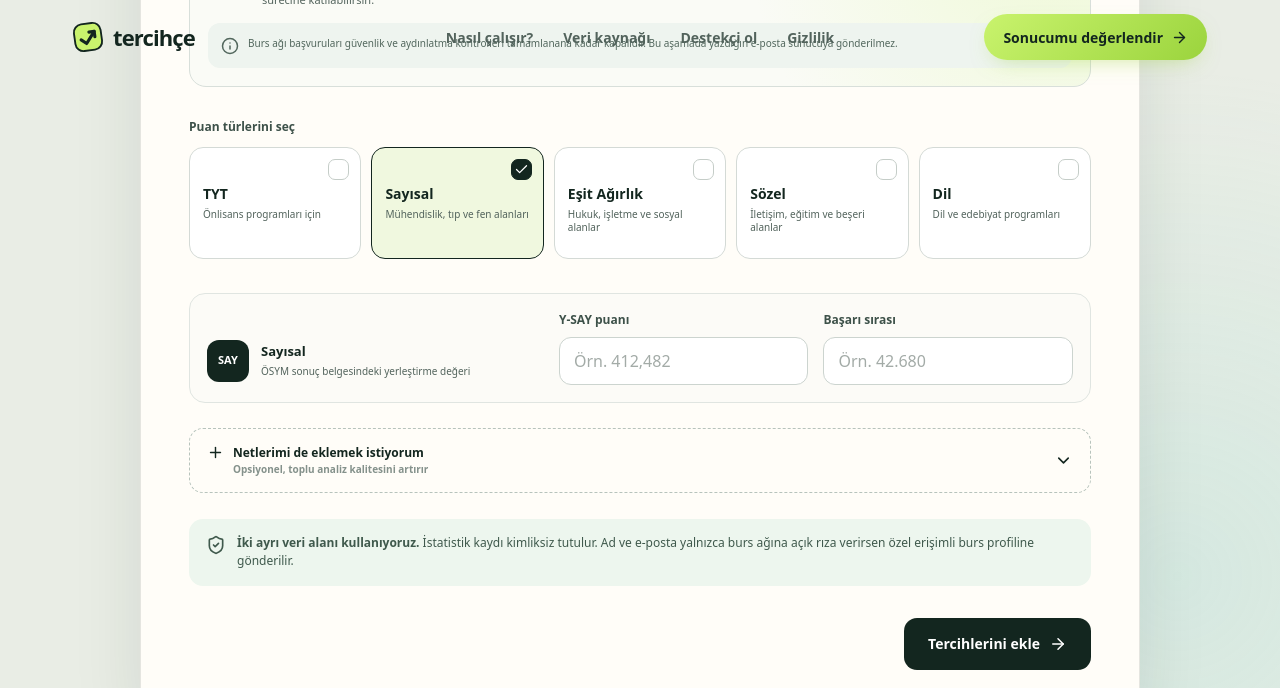
Tercihçe analiz akışı › kayıt onayı istemeden kimliksiz kayıt bilgilendirmesi gösterir
This screenshot has width=1280, height=688.
(page scrolled)
In the field named "SAY yerleştirme puanı": point(684, 360) [559,336,808,384], type "412,482"
(page scrolled)
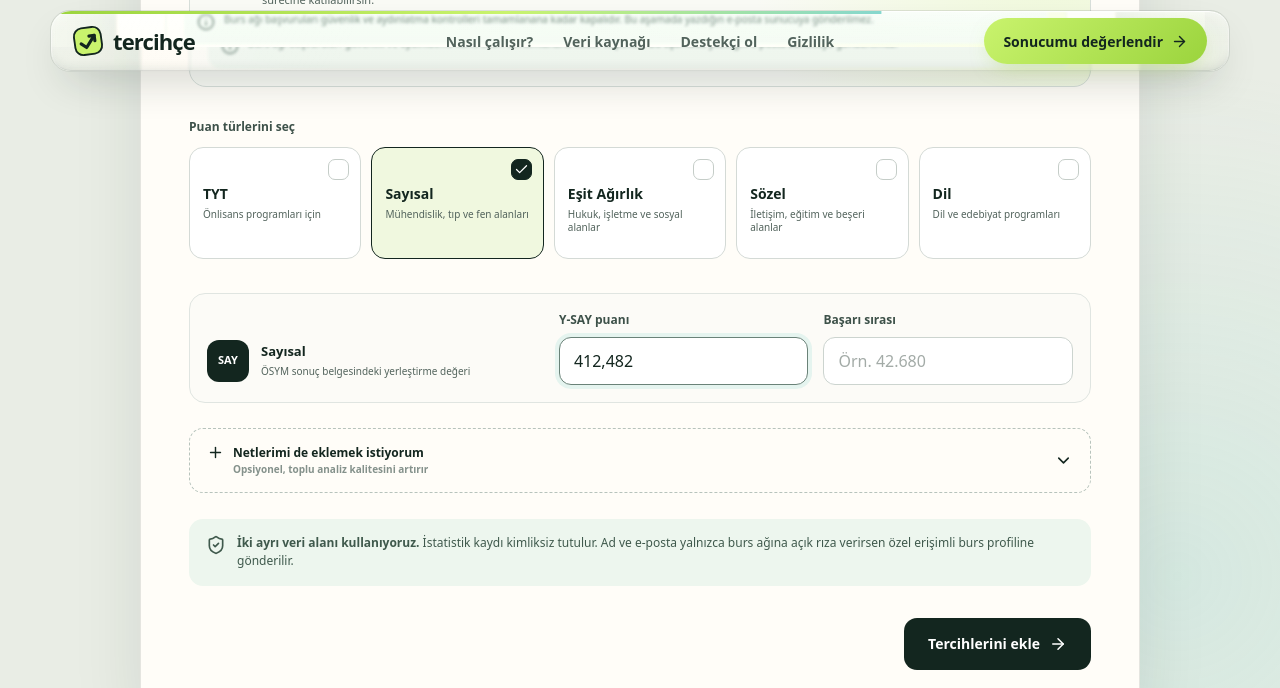
In the field named "SAY yerleştirme başarı sırası": point(948, 360) [823,336,1073,384], type "42680"
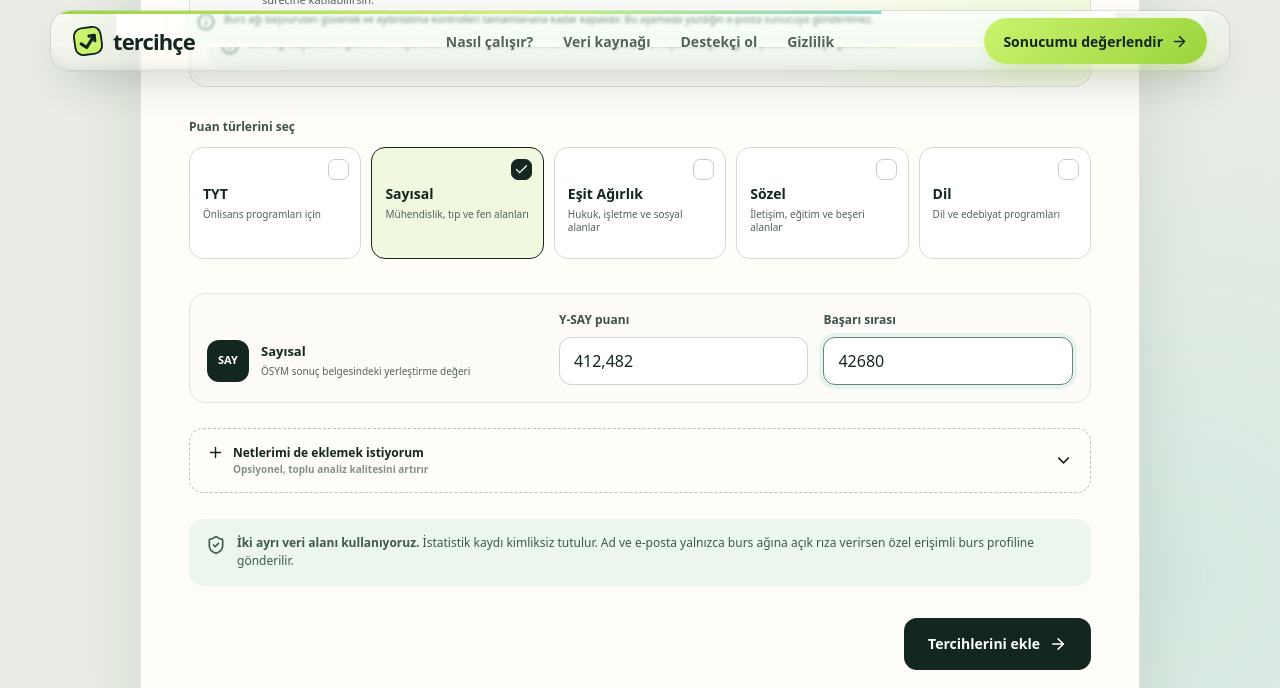
Click the button "Tercihlerini ekle": point(998, 644) [904,618,1091,670]
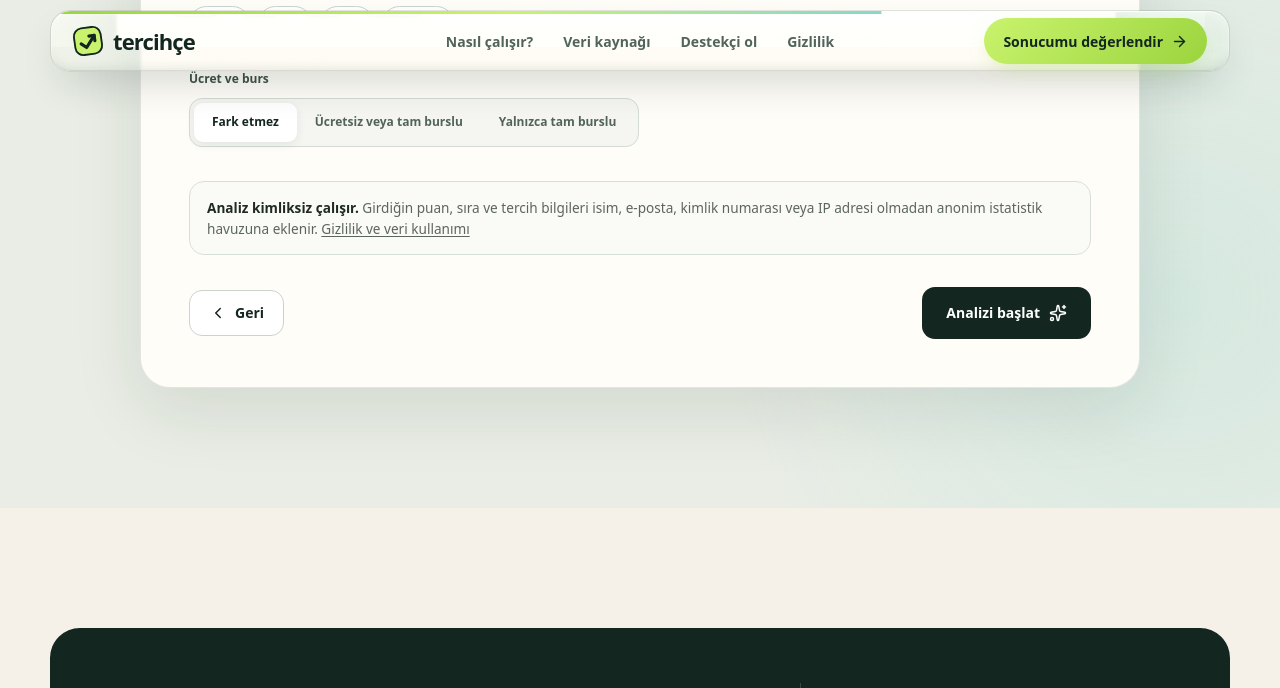
Result: the text "Analiz kimliksiz çalışır." is shown at [207,198,359,217]
